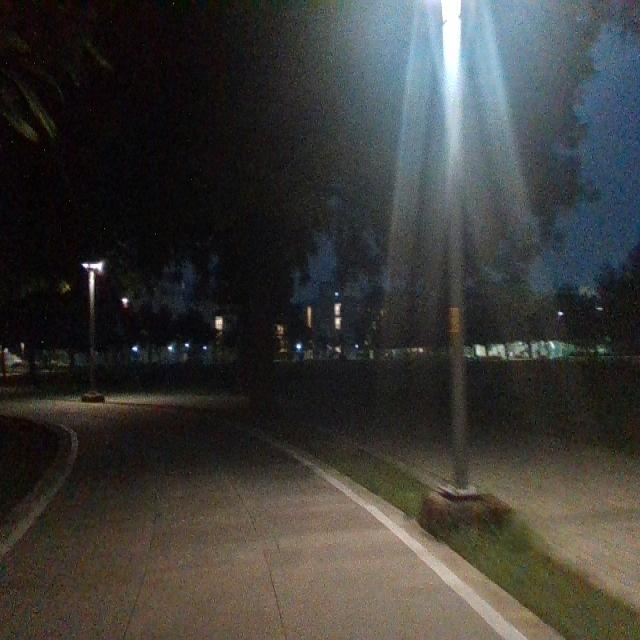lane: (6, 404, 494, 635)
